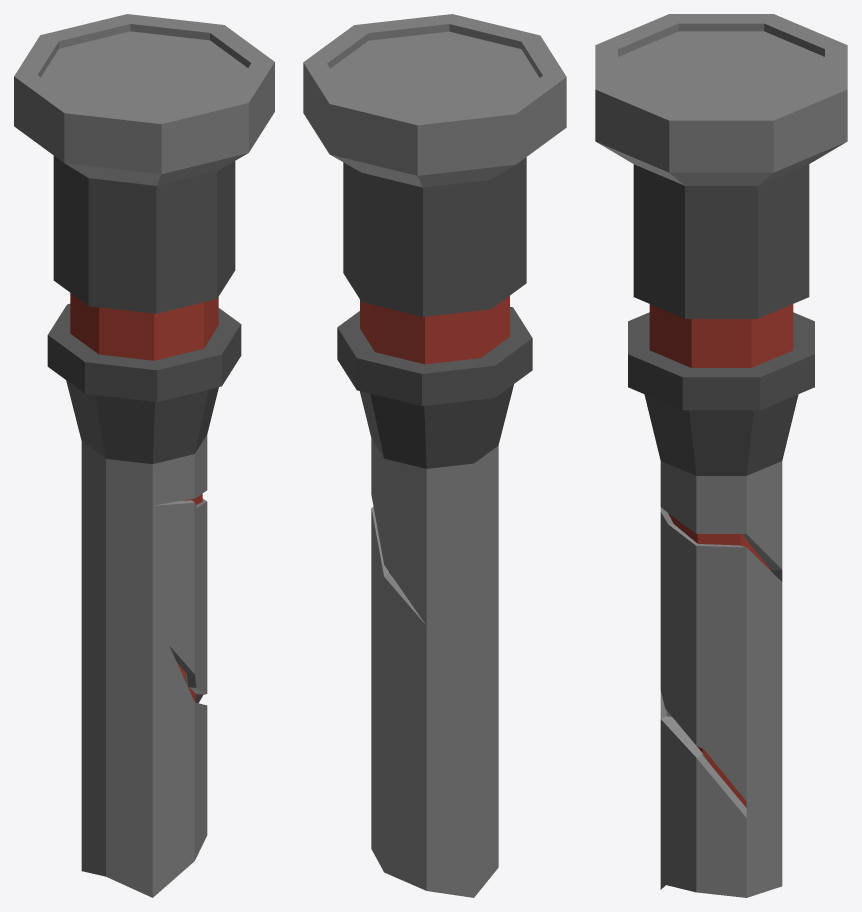
Rendered from column_broken_obstacle.fbx.
3 views of the same model, side by side, from view 1: azimuth 30°, elevation 25°; view 2: azimuth 150°, elevation 25°; view 3: azimuth 270°, elevation 25° (orthographic). The views are drawn at different scales.
Visible parts, largest first — view 1: Cylinder.002; view 2: Cylinder.002; view 3: Cylinder.002.
Boxes of the visible parts, bbox=[...] form: Cylinder.002: bbox=[14, 14, 274, 897]; Cylinder.002: bbox=[303, 14, 566, 897]; Cylinder.002: bbox=[595, 14, 847, 897].
Bounding box in the file's own units: 47.97 × 175 × 47.97.
